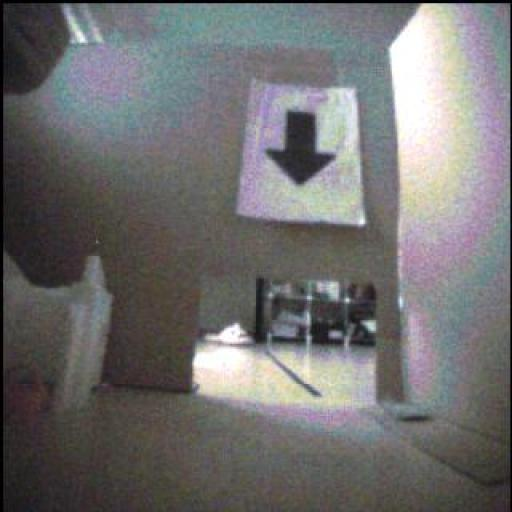arrow: (267, 113, 337, 187)
